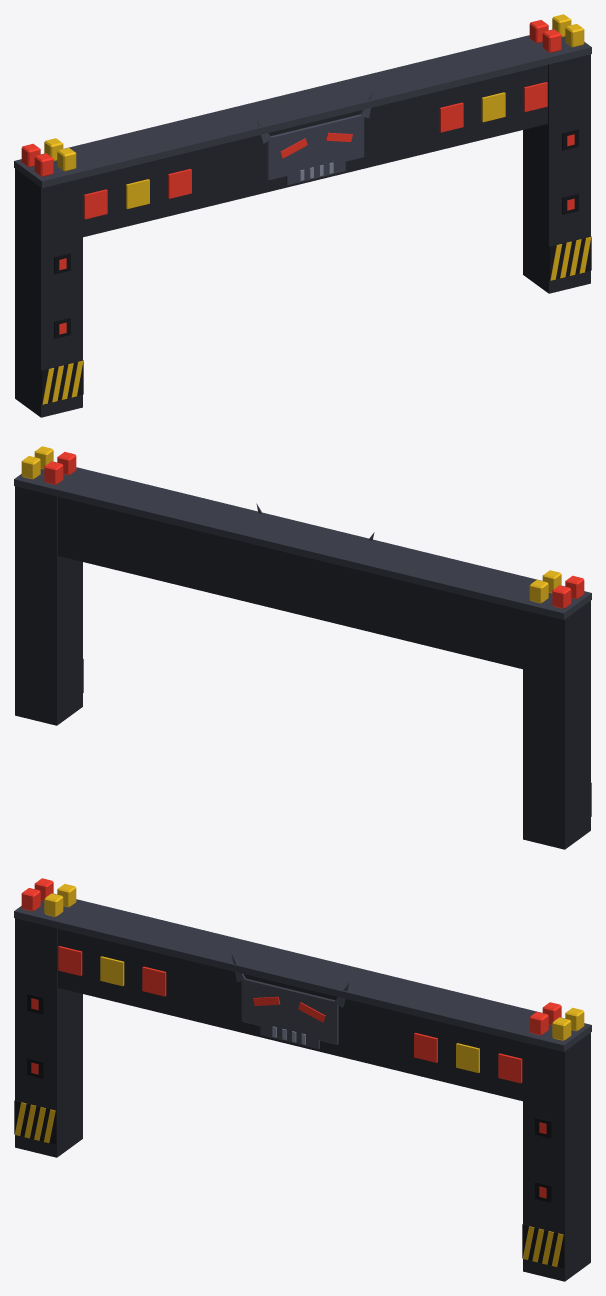
File: arena_entrance.glb
3 views of the same model, one above another, from view 1: azimuth 30°, elevation 25°; view 2: azimuth 150°, elevation 25°; view 3: azimuth 330°, elevation 25° (orthographic).
Parts seen in each view (by area): view 1: arena_entrance; view 2: arena_entrance; view 3: arena_entrance.
Boxes of the visible parts, bbox=[...] form: arena_entrance: bbox=[14, 14, 591, 417]; arena_entrance: bbox=[14, 446, 591, 849]; arena_entrance: bbox=[14, 878, 591, 1281].
Size of the model in its own units: 17 by 7.5 by 1.5.
Materials: 1 (1 with a texture image).
